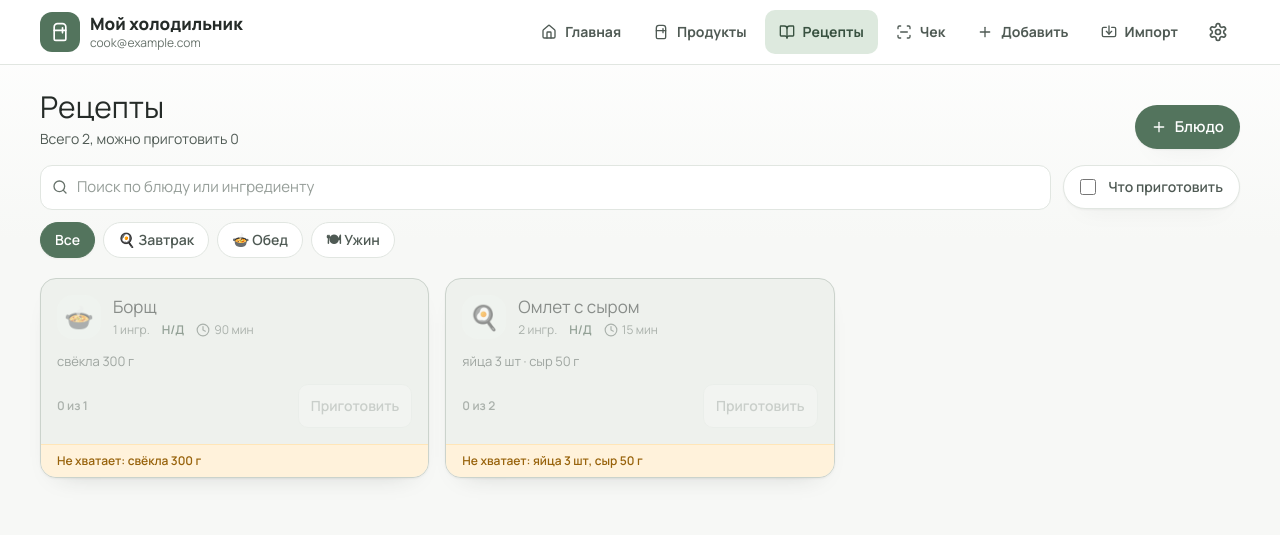
Продукты v2.1 › показывает компактные строки и выбирает действие по актуальному сроку
This screenshot has width=1280, height=535.
Expected: the text "Омлет с сыром" is shown, [518,294,640,318]
Click the link "Продукты": (700, 32) [653,22,746,41]
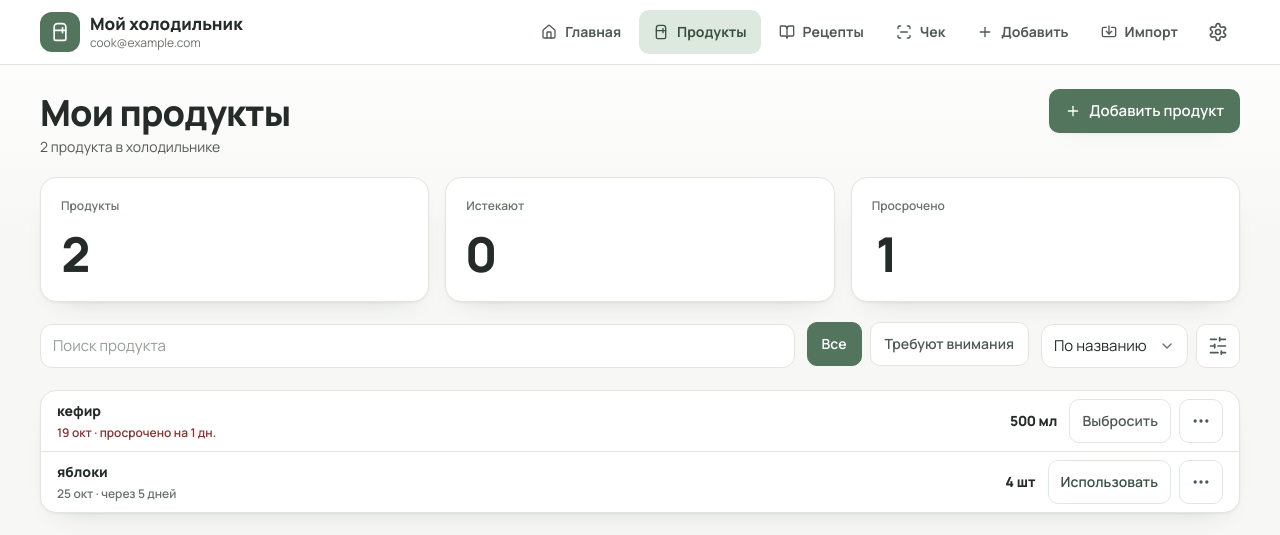
Result: the heading "Мои продукты" is shown at [40,93,290,133]
Result: the button "Использовать" is shown at [1048,460,1171,504]
Result: the button "Выбросить" is shown at [1069,399,1171,443]
